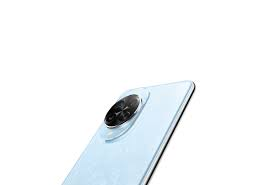phone: (56, 73, 204, 185)
